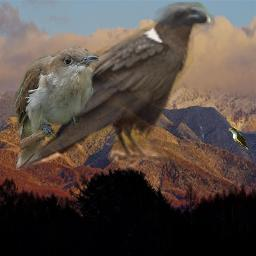Crow: (20, 2, 215, 174)
Cuckoo: (12, 45, 99, 170), (228, 127, 253, 156)
